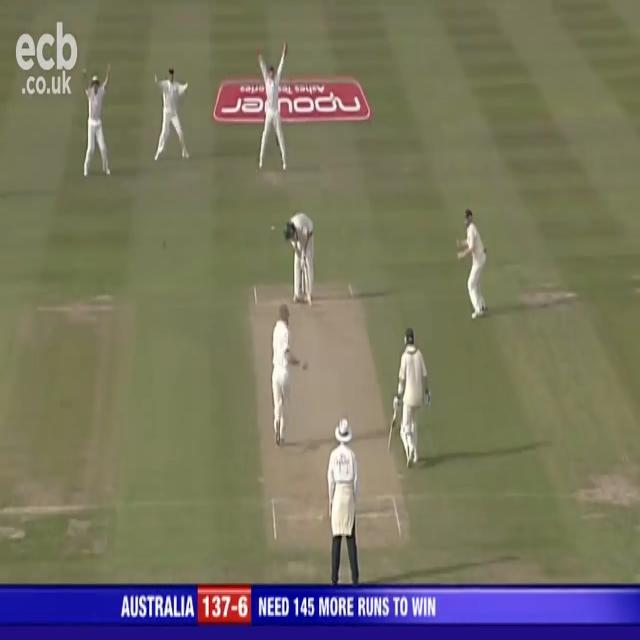ball: (162, 235, 170, 252)
